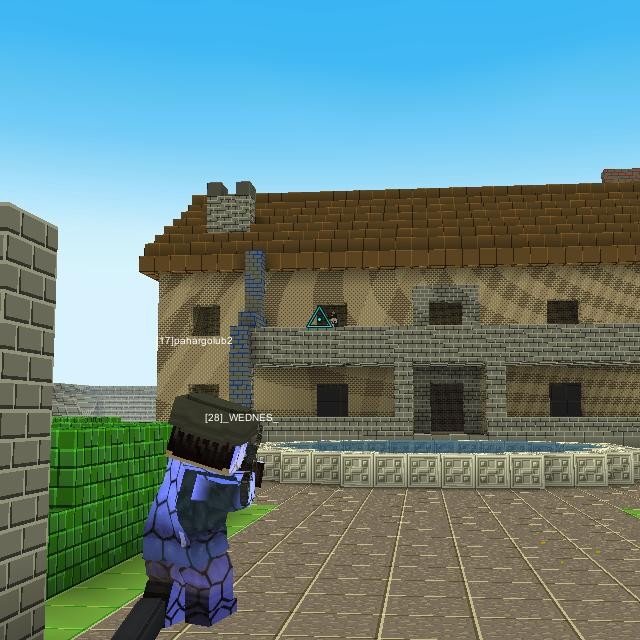enemy: (323, 311, 339, 327)
